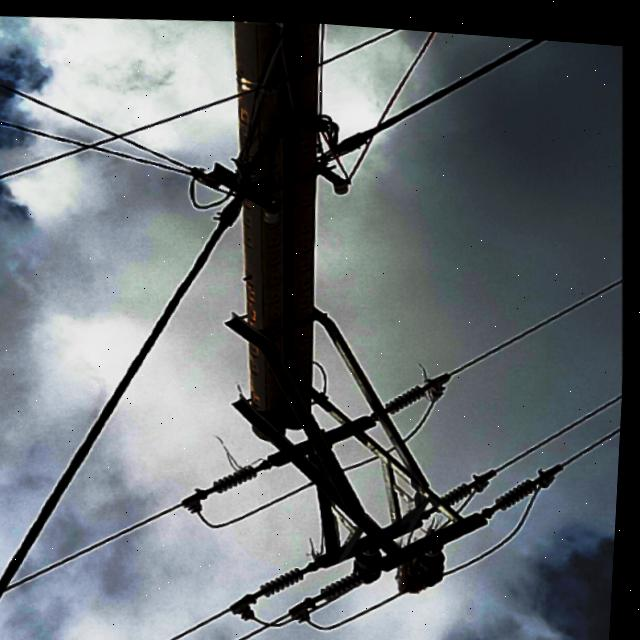obstruction: (400, 537, 434, 587)
poles: (186, 19, 560, 624)
wires: (0, 197, 244, 609), (327, 23, 571, 176), (0, 46, 181, 196), (0, 471, 187, 581), (453, 278, 624, 372), (502, 379, 625, 476), (152, 611, 277, 640)
